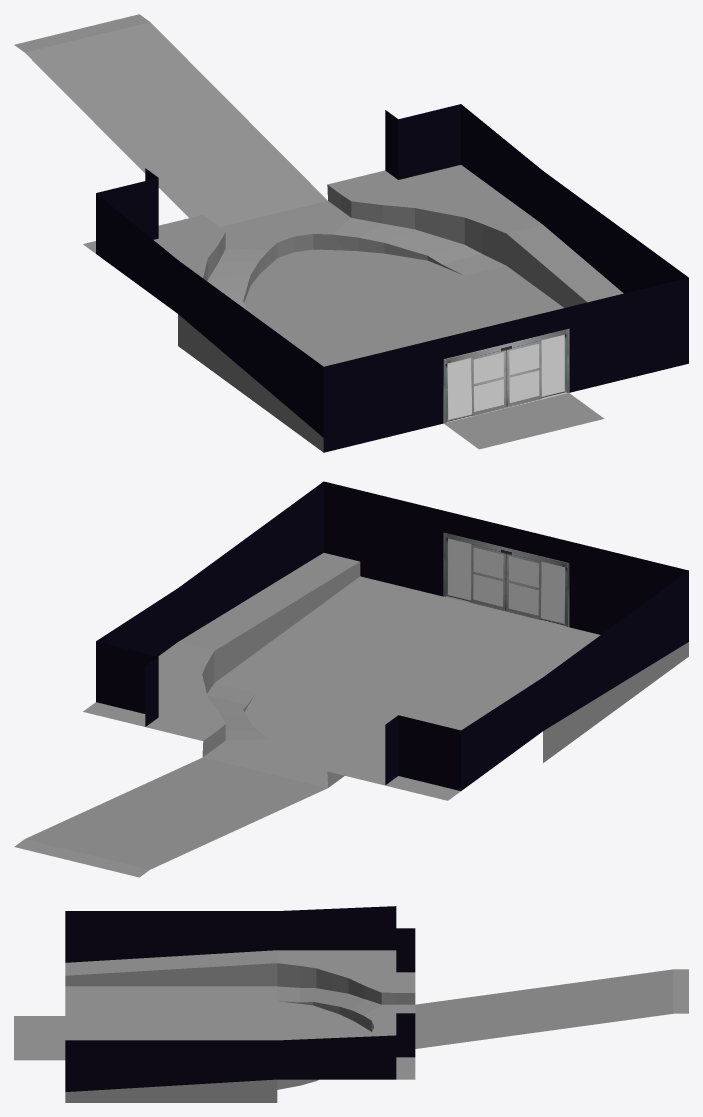
The model's file is mallExport.glb.
3 views of the same model, one above another, from view 1: azimuth 30°, elevation 25°; view 2: azimuth 150°, elevation 25°; view 3: azimuth 270°, elevation 25° (orthographic). The views are drawn at different scales.
Parts seen in each view (by area): view 1: Floorplan; view 2: Floorplan; view 3: Floorplan.
Boxes of the visible parts, x1,y1,x2,y2 form: Floorplan: (14,14,688,452); Floorplan: (14,481,688,877); Floorplan: (14,906,688,1102).
Bounding box in the file's own units: 20.62 × 5.01 × 45.49.
3 materials, 1 textured.
